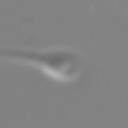normal: (1, 44, 41, 71)
